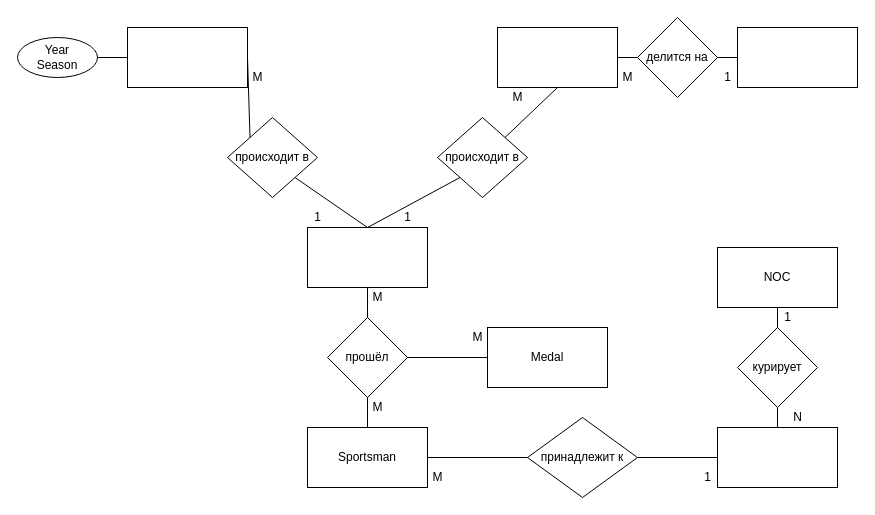
The diagram is 875 pixels wide and 515 high, and some of its shapes have lost their labels. The shapes that lost their labels are listed below. From the top down, each one's centre as x and y in pixels, then its label:
At (x=187, y=57): "Play".
At (x=557, y=57): "Event_type( Event )".
At (x=797, y=57): "Sport".
At (x=367, y=257): "Event".
At (x=777, y=457): "Team".
